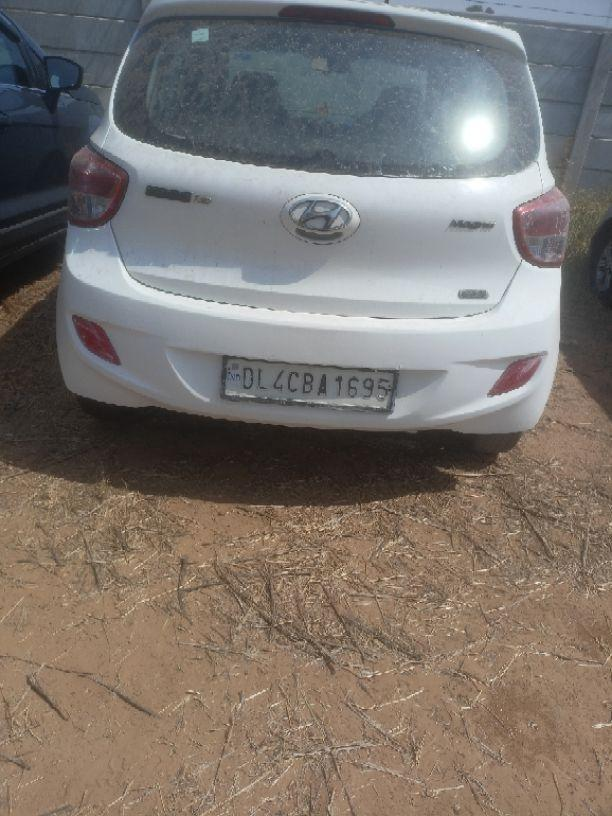license_plate: (220, 355, 398, 412)
